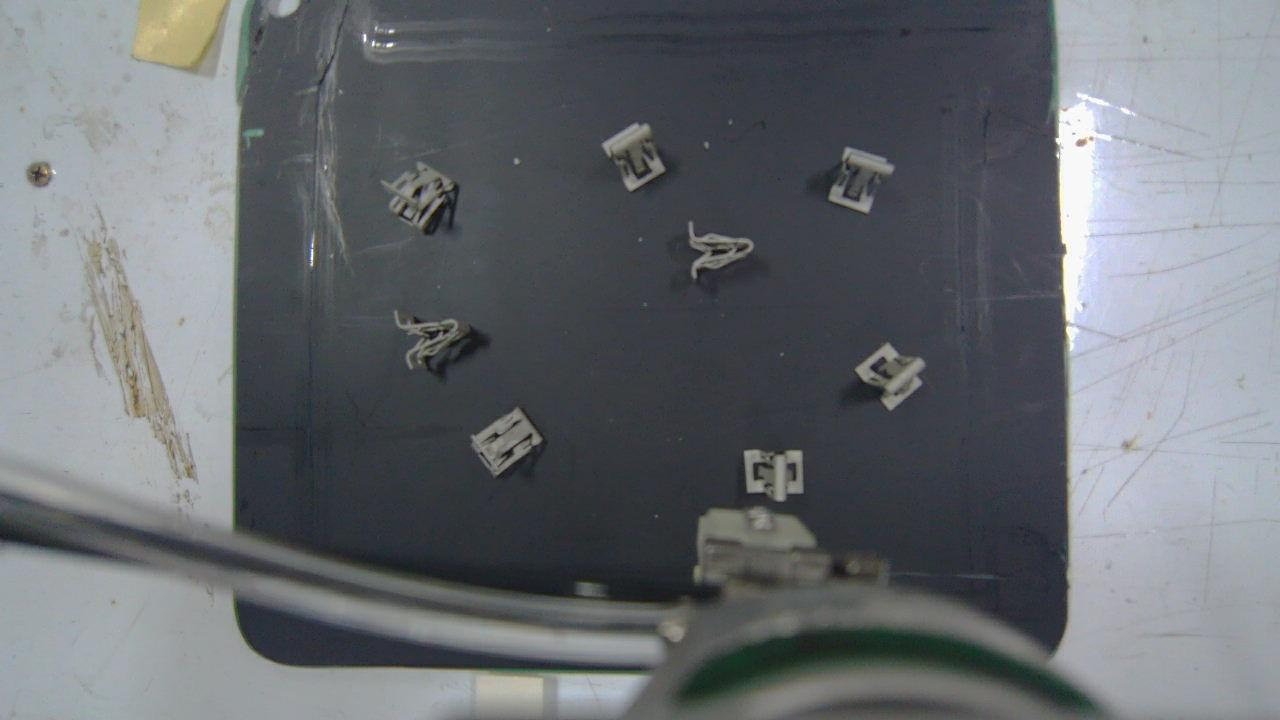ng: (382, 161, 455, 230), (471, 407, 543, 476), (857, 343, 925, 410), (602, 123, 667, 191), (395, 309, 468, 369), (827, 146, 894, 211), (689, 223, 752, 279)
pass: (742, 451, 804, 503)
